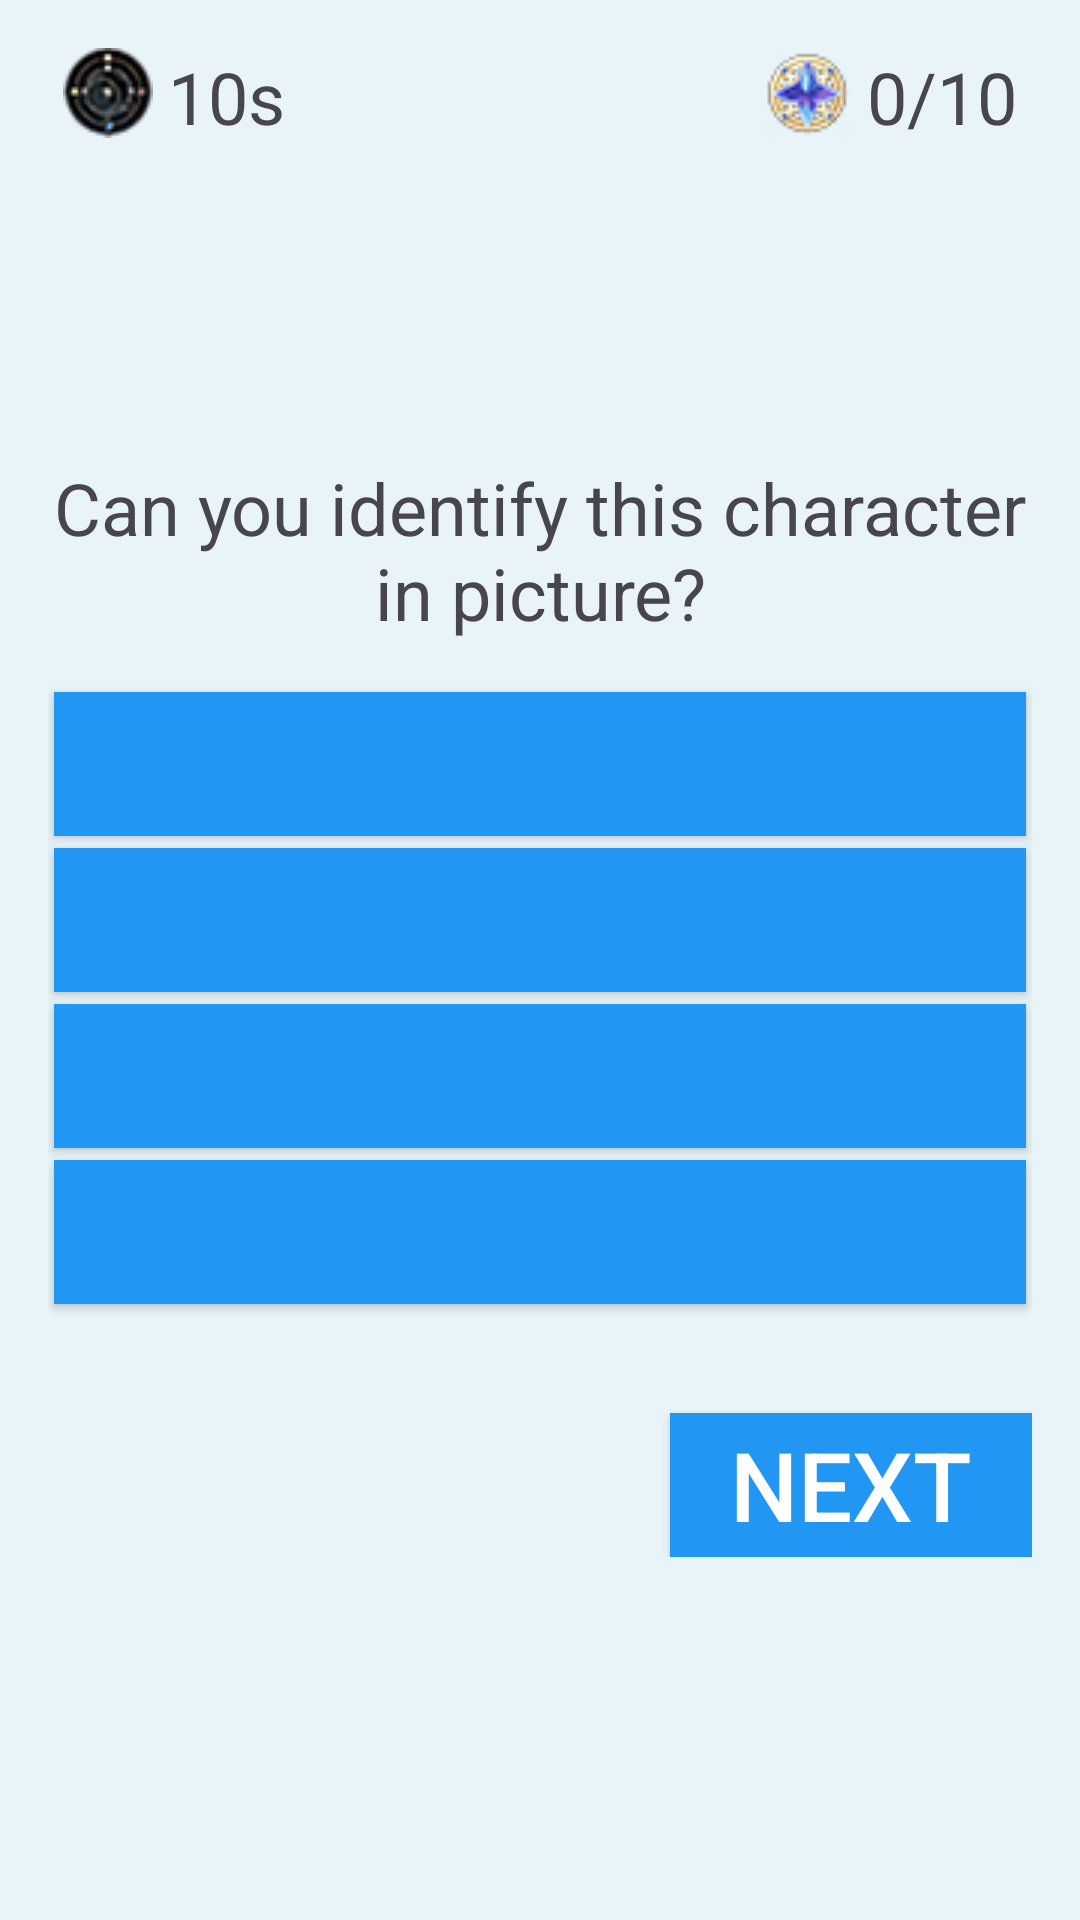

Screen size 1080 × 1920. Icon name, then its center in pixels as point (x, y):
star: point (807, 93)
